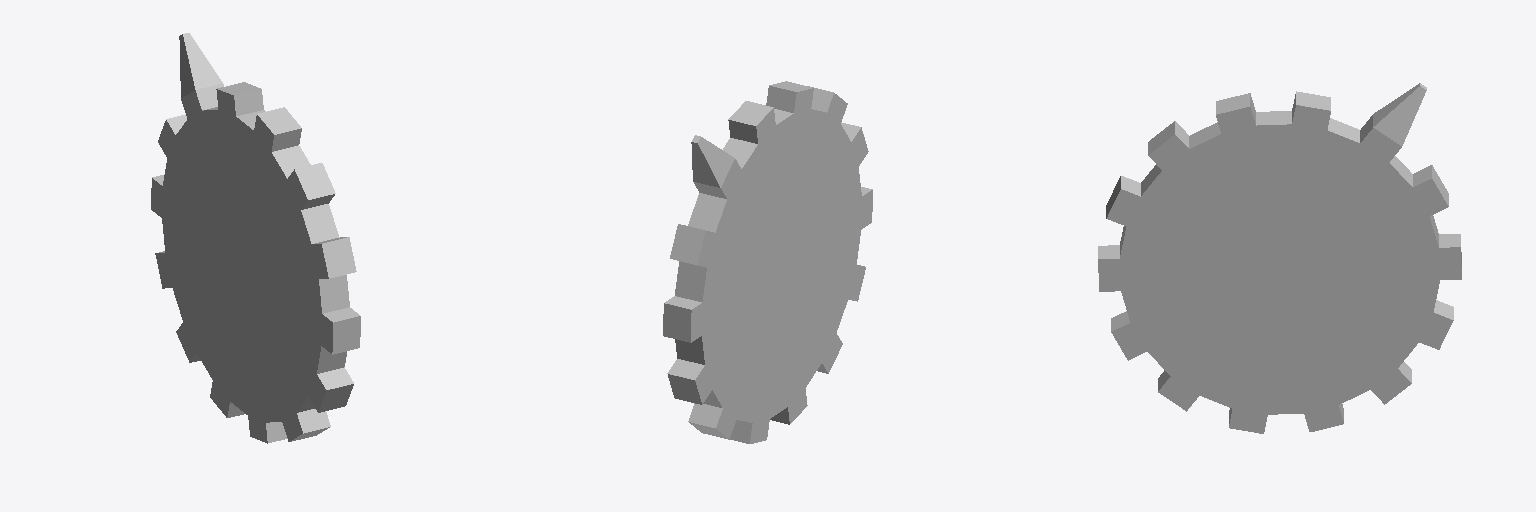
Rendered from gear_000019.obj.
3 renders of one model, left to right at view 1: azimuth 30°, elevation 25°; view 2: azimuth 150°, elevation 25°; view 3: azimuth 270°, elevation 25°, orthographic.
Parts seen in each view (by area): view 1: gear_Cylinder.001; view 2: gear_Cylinder.001; view 3: gear_Cylinder.001.
Part boxes in pixels (bbox=[...]): gear_Cylinder.001: bbox=[151, 33, 360, 443]; gear_Cylinder.001: bbox=[663, 81, 872, 443]; gear_Cylinder.001: bbox=[1098, 83, 1461, 433].
Size of the model in its own units: 0.1 by 1.18 by 1.13.